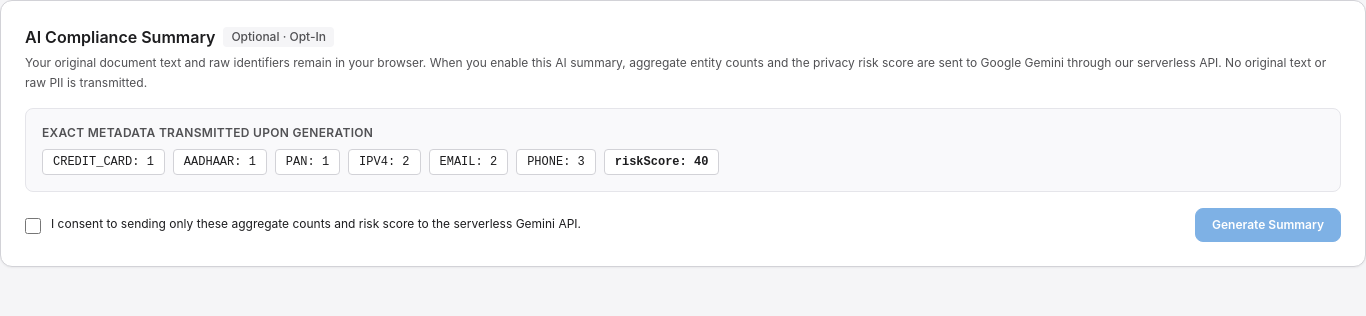
Scenario: AiComplianceSummary component › cancels an in-flight summary request without showing an error banner
The width and height of the screenshot is (1366, 316).
Click the checkbox. click: (33,226)
box: [25,218,41,234]
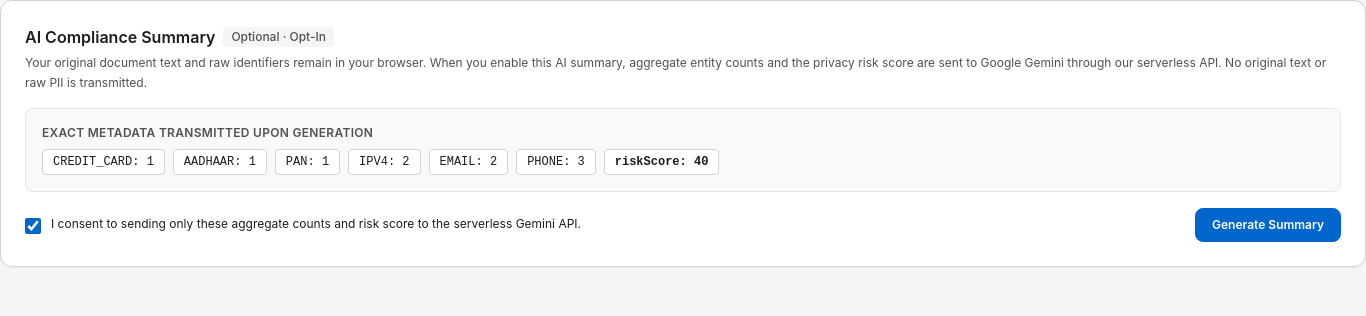
Click the button "Generate Summary". click: (1268,225)
box: [1195,208,1341,242]
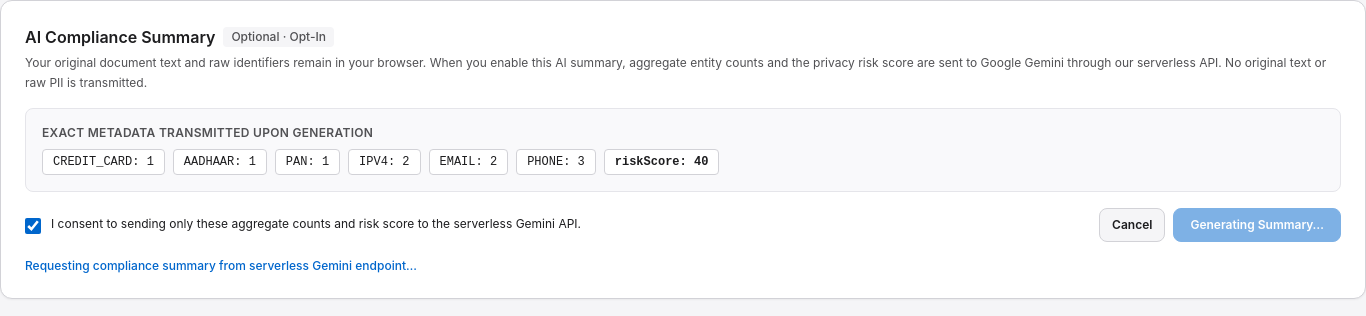
Click the button "Cancel". click: (1132,225)
box: [1099,208,1165,242]
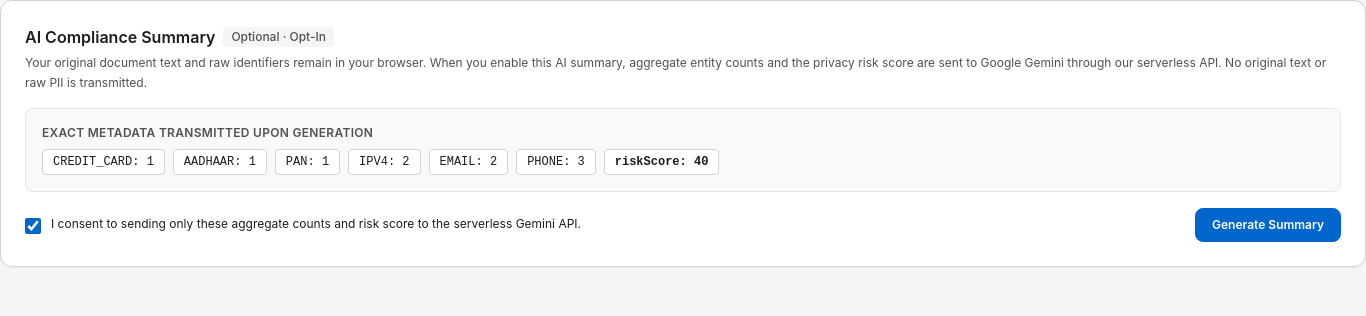
Now the button "Cancel" is gone
Now the message "Requesting compliance summary from serverless Gemini endpoint…" is gone
